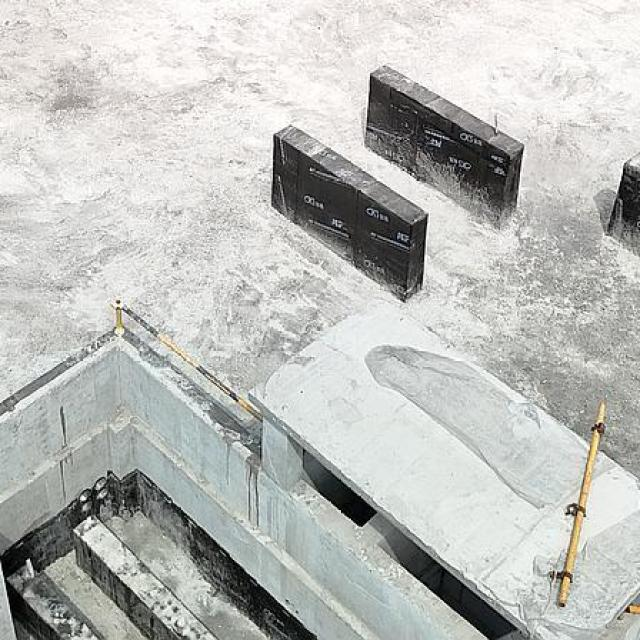edge_guardrail: (109, 296, 264, 426)
